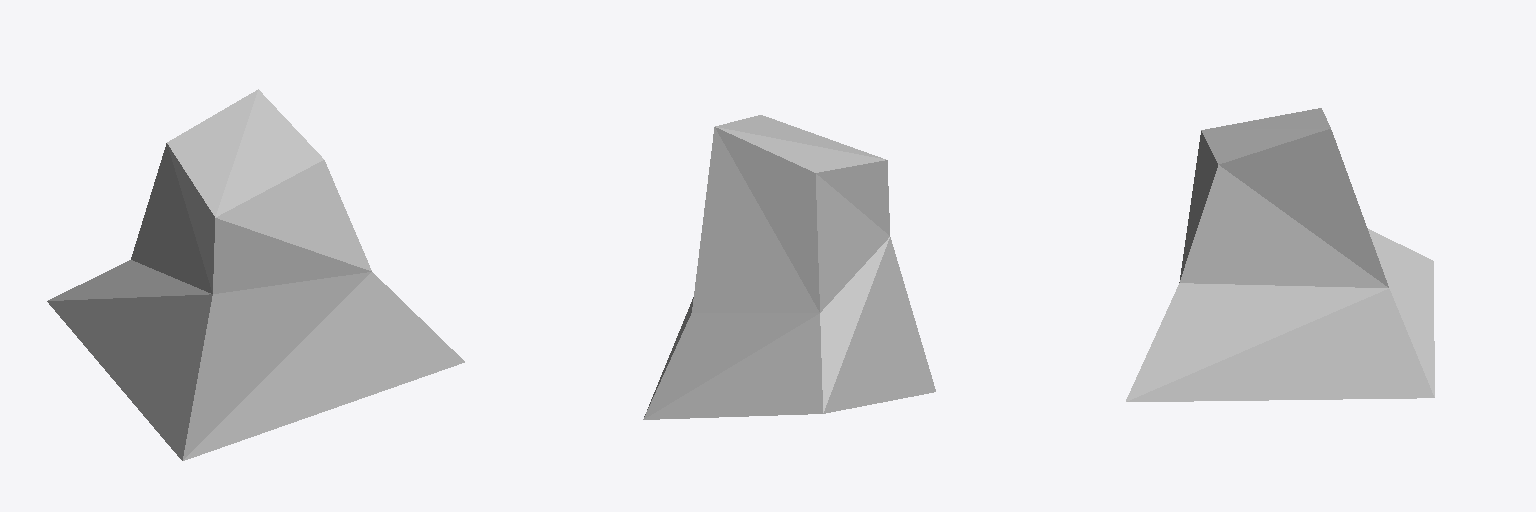
Rendered from tree-stump.obj.
3 views of the same model, side by side, from view 1: azimuth 30°, elevation 25°; view 2: azimuth 150°, elevation 25°; view 3: azimuth 270°, elevation 25° (orthographic).
Parts seen in each view (by area): view 1: Cube.003; view 2: Cube.003; view 3: Cube.003.
Boxes of the visible parts, x1,y1,x2,y2 form: Cube.003: [47, 89, 464, 460]; Cube.003: [643, 115, 935, 419]; Cube.003: [1126, 108, 1434, 401].
Size of the model in its own units: 5.55 by 5.66 by 5.63.